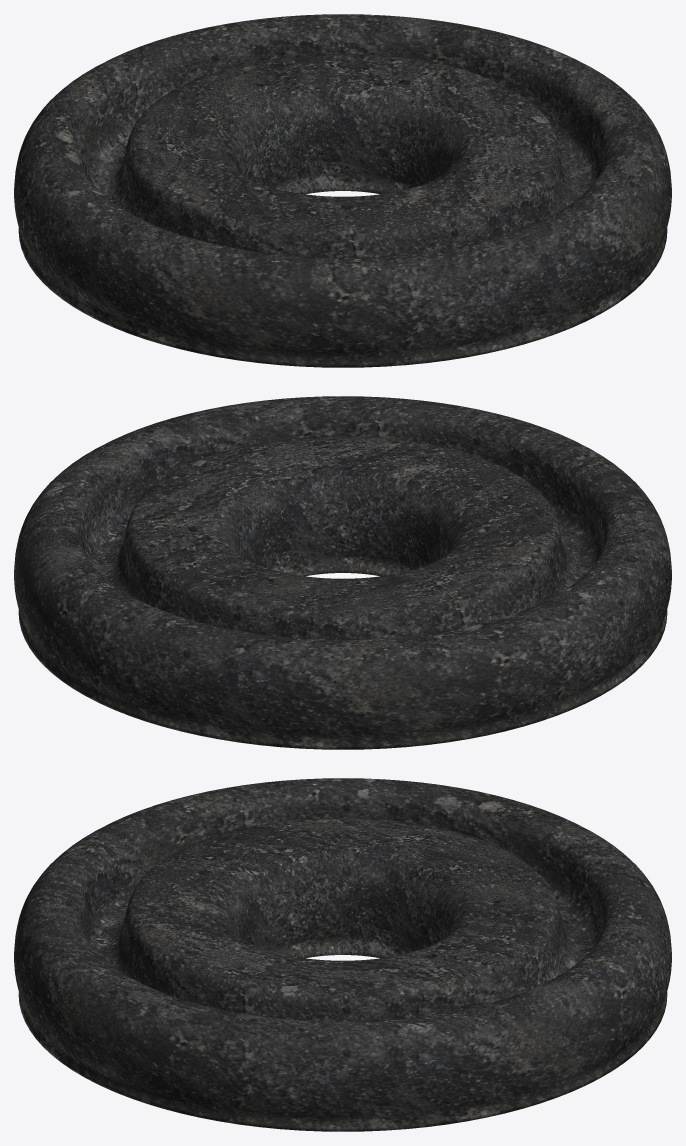
Rendered from tzaar-tzaar-black.glb.
3 renders of one model, top to bottom at view 1: azimuth 30°, elevation 25°; view 2: azimuth 150°, elevation 25°; view 3: azimuth 270°, elevation 25°, orthographic.
Visible parts, largest first — view 1: tzaar-tzaar-black; view 2: tzaar-tzaar-black; view 3: tzaar-tzaar-black.
Part boxes in pixels (bbox=[...]): tzaar-tzaar-black: bbox=[14, 14, 671, 367]; tzaar-tzaar-black: bbox=[14, 396, 671, 749]; tzaar-tzaar-black: bbox=[14, 778, 671, 1131].
Size of the model in its own units: 0.028 by 0.00435 by 0.028.
1 material, 1 textured.
